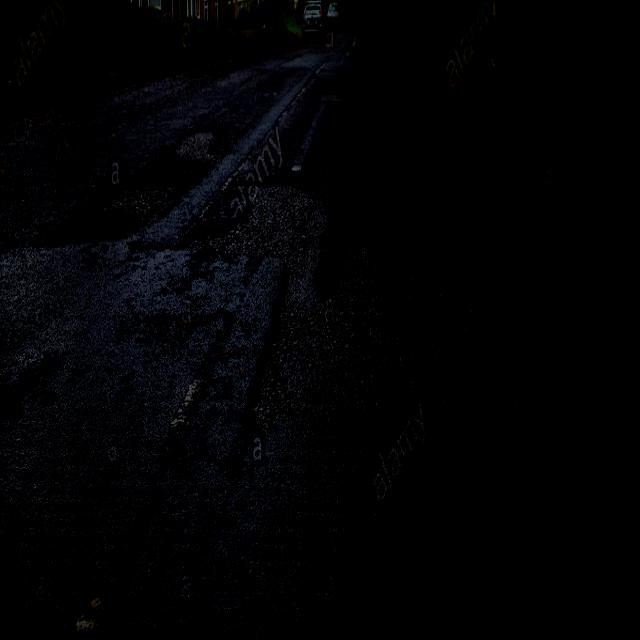Pothole: (176, 170, 567, 480), (39, 118, 237, 259)
